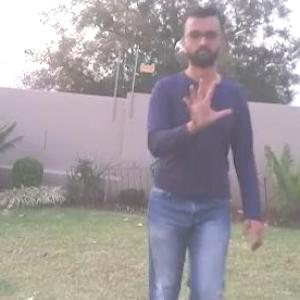follow_hand: (179, 71, 235, 128)
